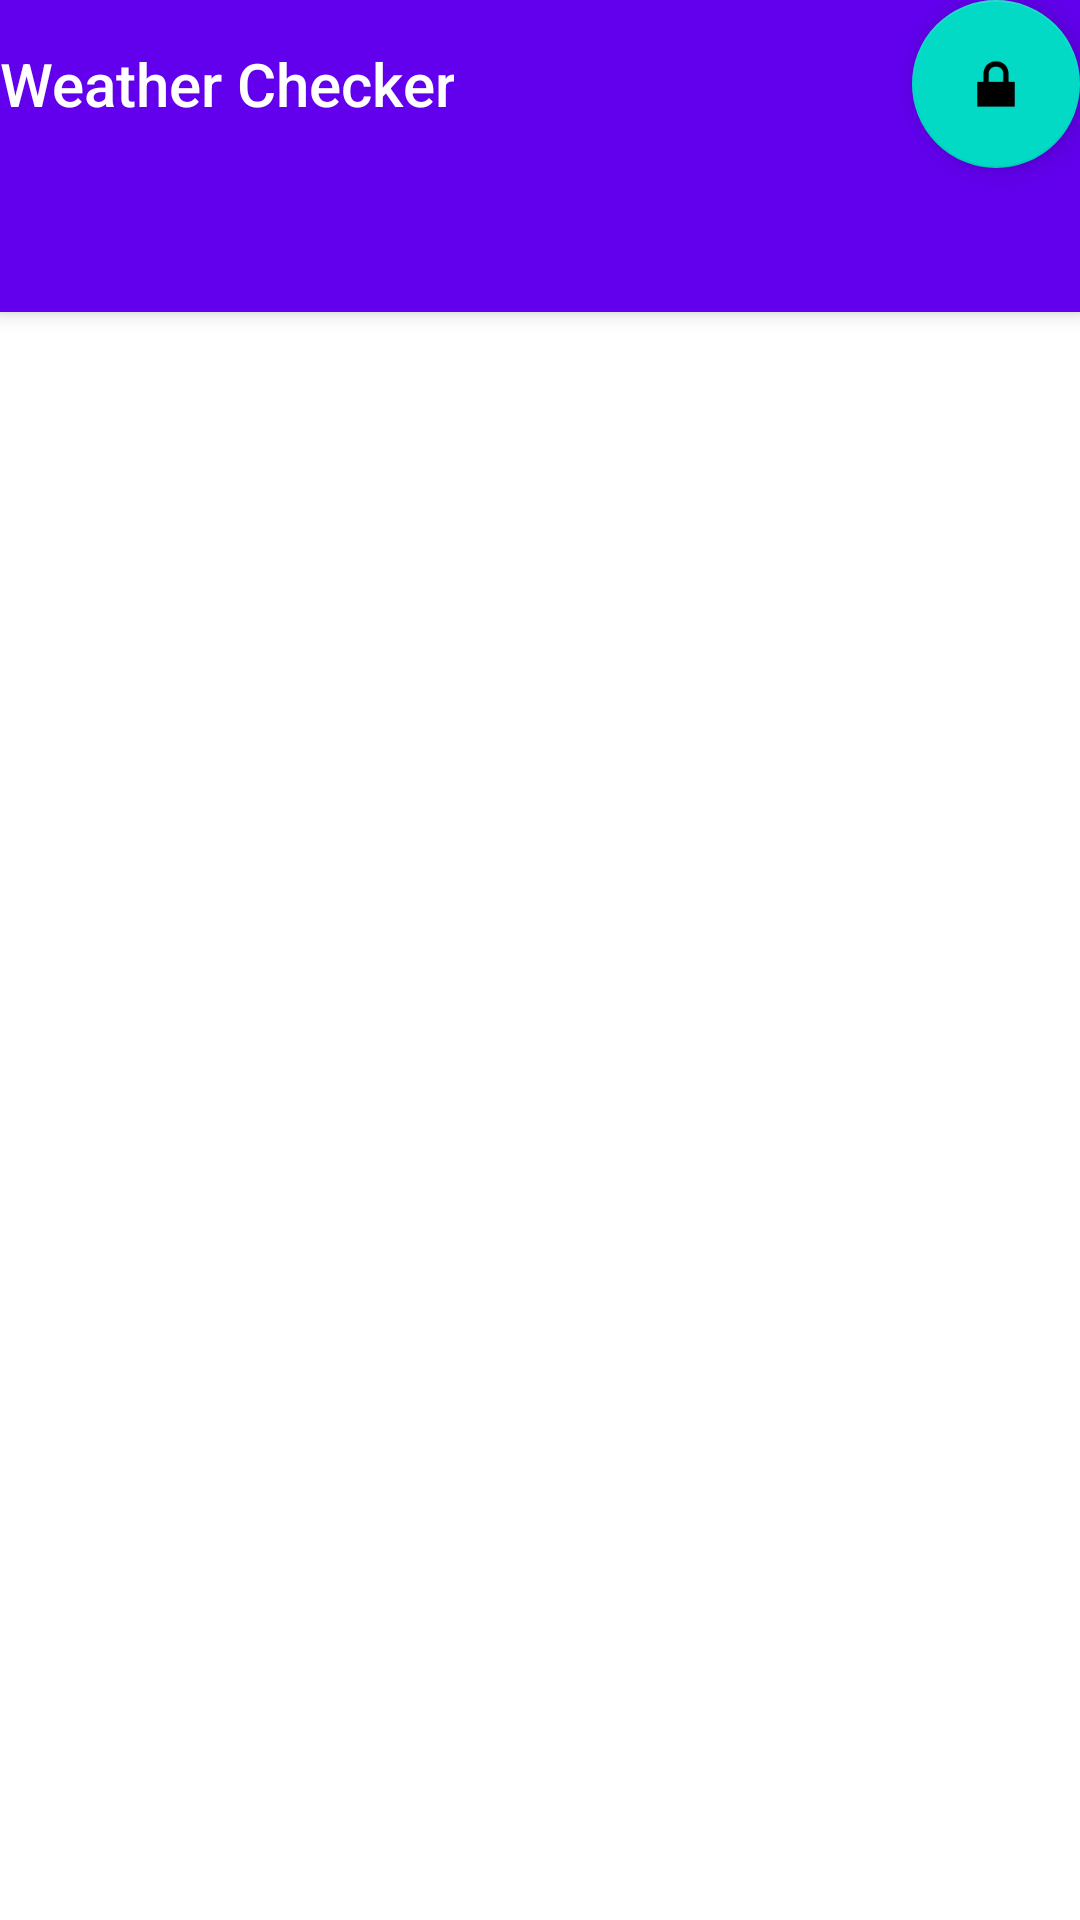

Where icons sit on this 1080×1920 app screen, as (x1, y1, x2, y2):
lock: (912, 0, 1080, 168)
